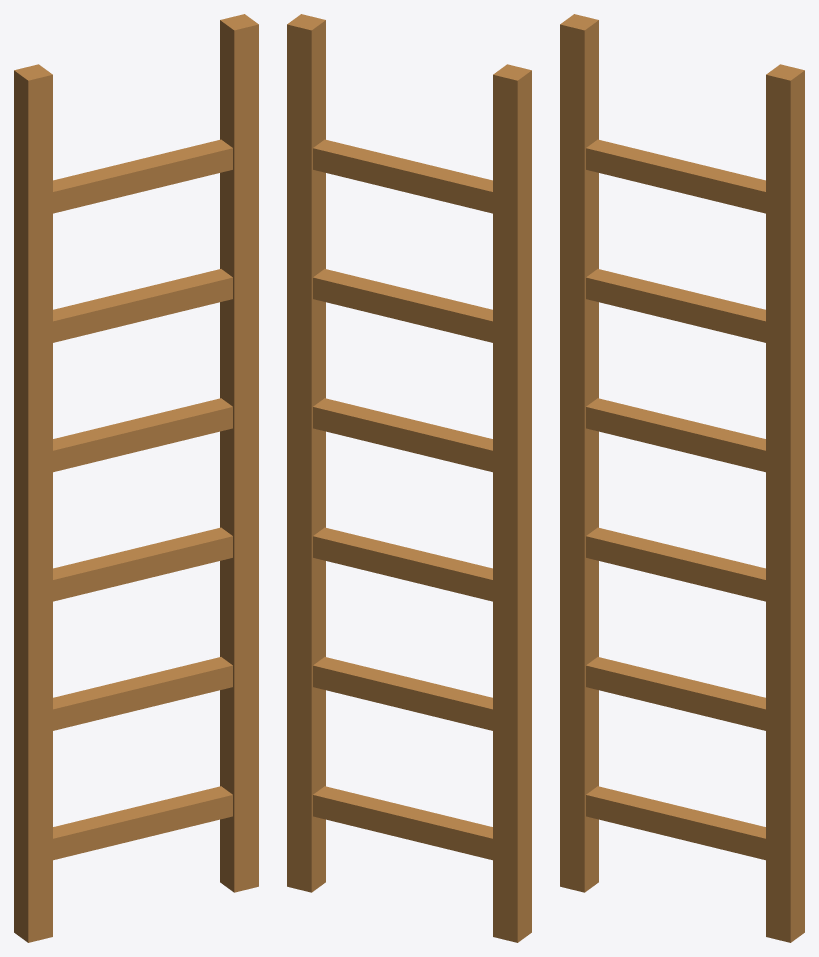
Rendered from wooden_ladder.glb.
The picture shows the model from 3 angles, left to right: view 1: azimuth 30°, elevation 25°; view 2: azimuth 150°, elevation 25°; view 3: azimuth 330°, elevation 25°; orthographic projection.
Visible parts, largest first — view 1: wooden_ladder; view 2: wooden_ladder; view 3: wooden_ladder.
Boxes of the visible parts, x1=… form: wooden_ladder: x1=14, y1=14, x2=258, y2=942; wooden_ladder: x1=287, y1=14, x2=531, y2=942; wooden_ladder: x1=560, y1=14, x2=804, y2=942.
Size of the model in its own units: 0.56 by 2 by 0.06.
